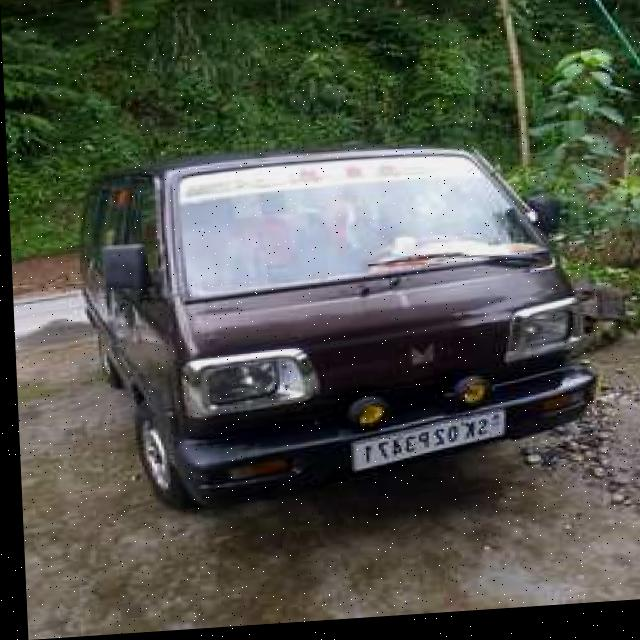plate: (340, 410, 509, 480)
